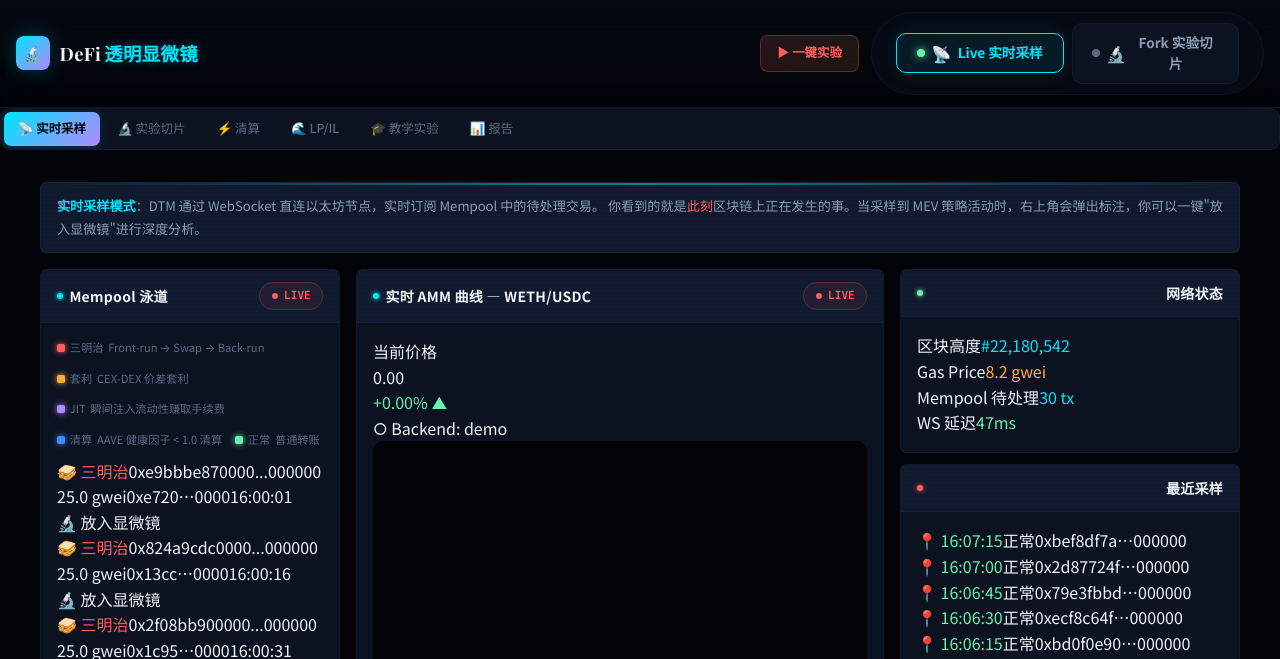
Test case: App › mounts every nav-tab page with page-specific content (full route smoke)
Expected: the header with test id "app-header" is shown, [0,0,1279,108]
Click the tab "📡 实时采样".
click(52, 129)  # box [4,112,100,146]
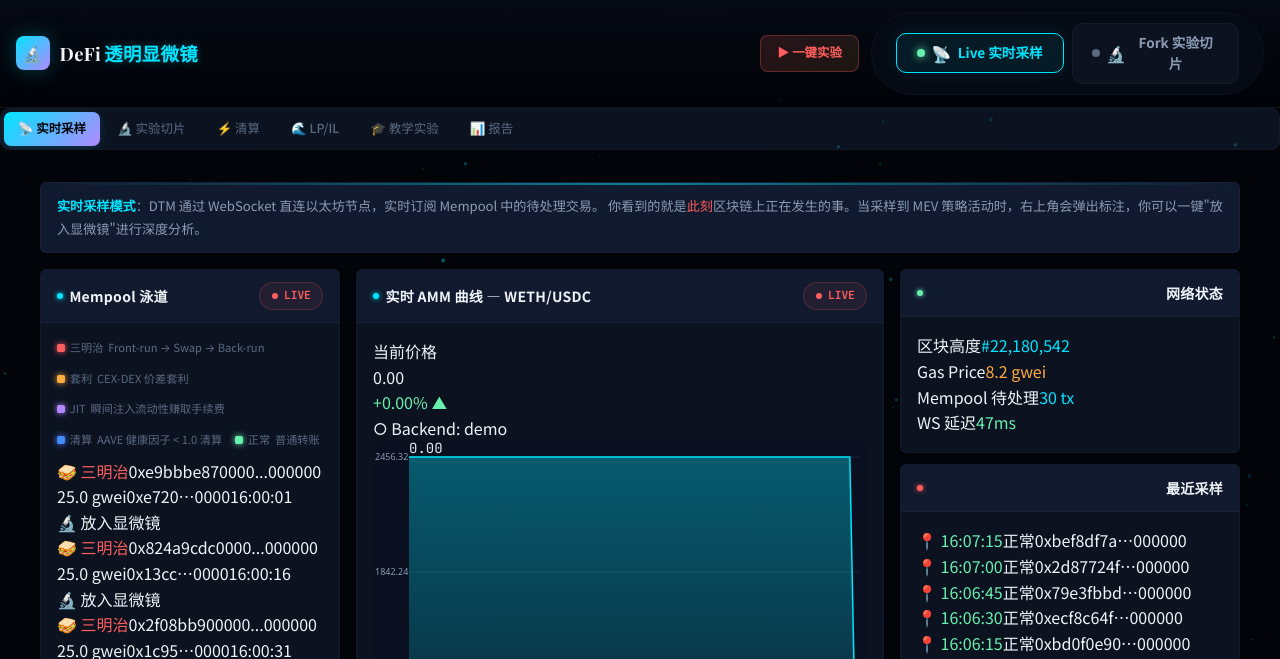
Click the tab "🔬 实验切片".
click(151, 129)  # box [104,112,199,146]
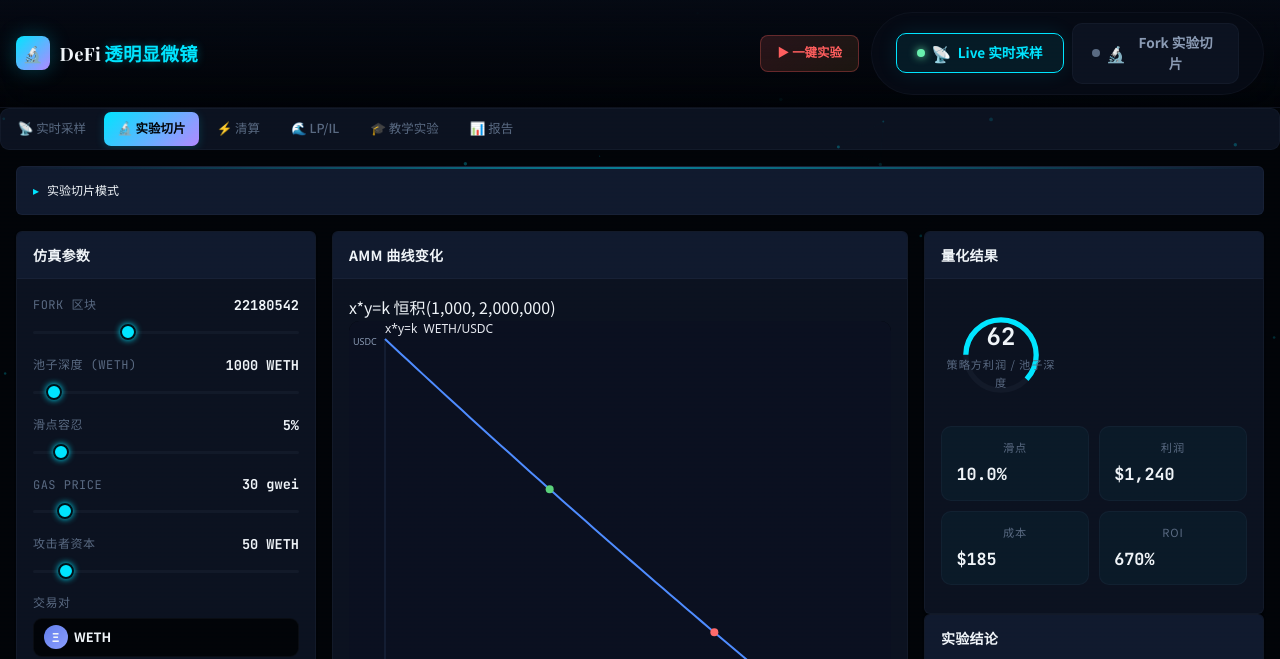
Click the tab "⚡ 清算".
click(238, 129)  # box [203,112,274,146]
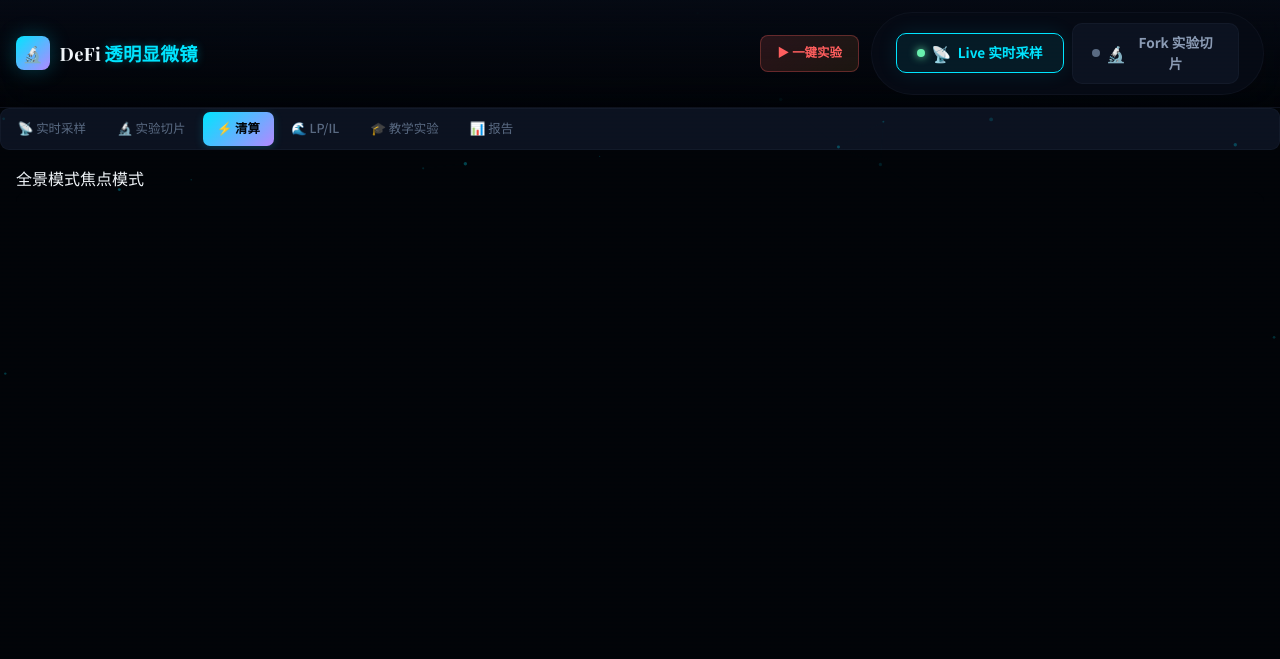
Click the tab "🌊 LP/IL".
click(315, 129)  # box [278,112,353,146]
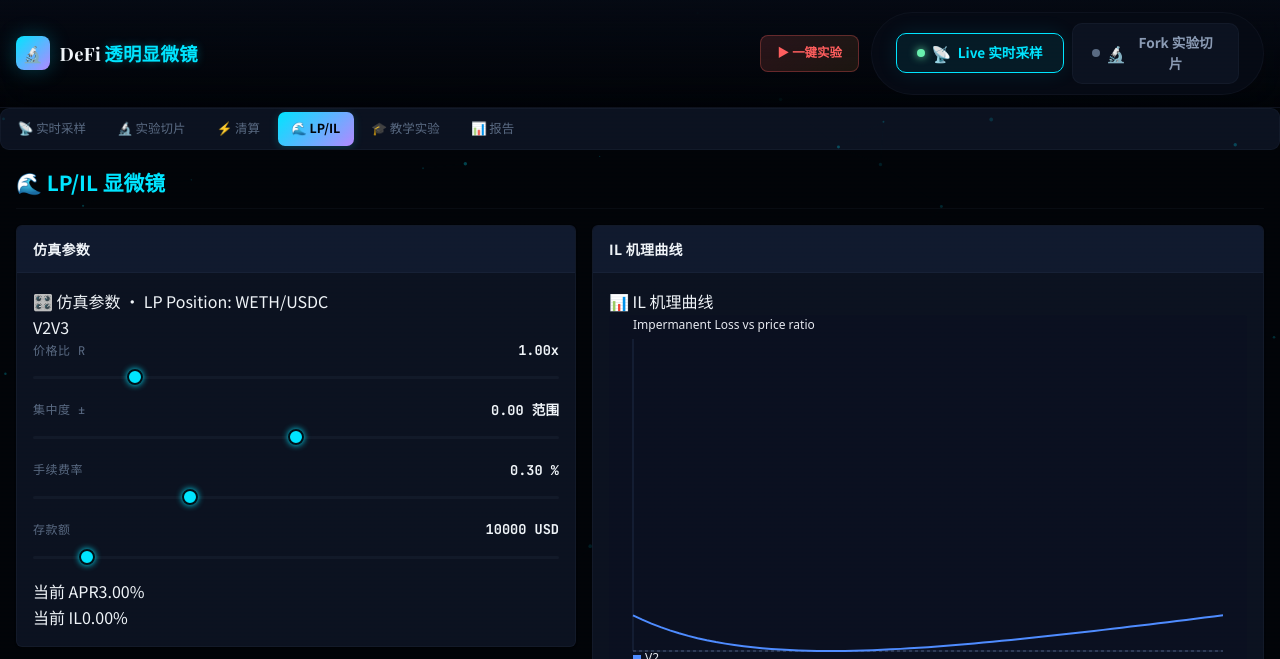
Expected: the element with test id "lpil-params-panel" is shown, [33,289,559,630]
Click the tab "🎓 教学实验".
click(406, 129)  # box [358,112,453,146]
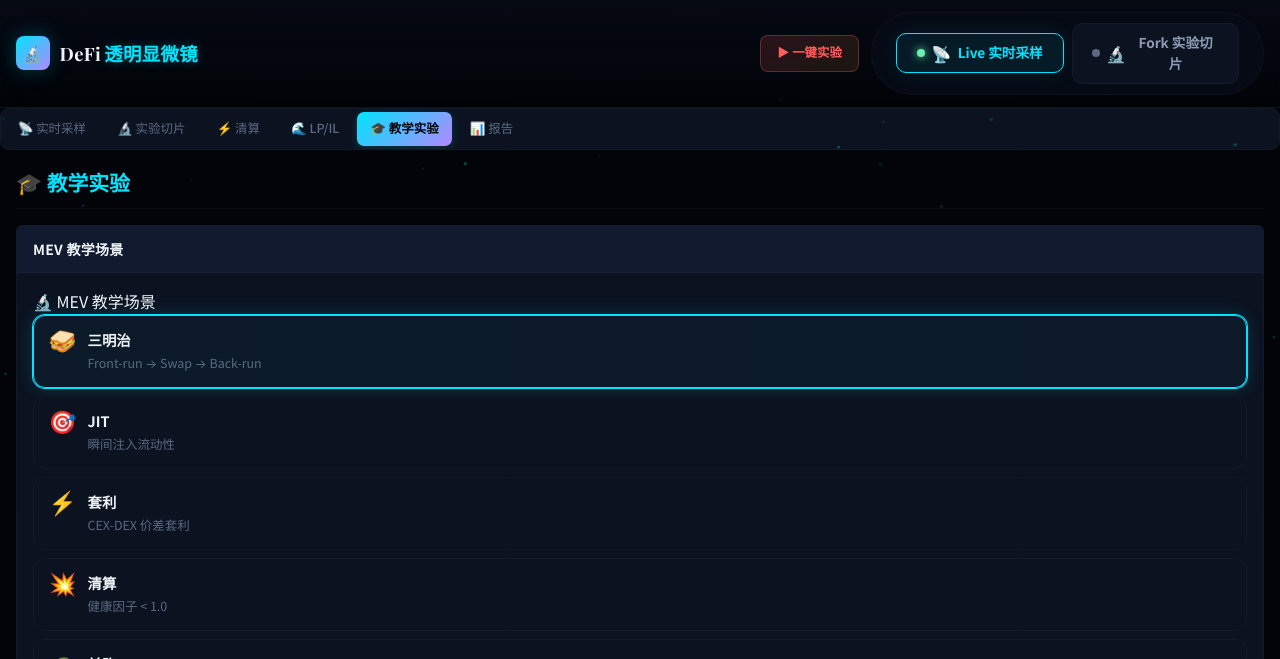
Click the tab "📊 报告".
click(492, 129)  # box [456,112,527,146]
(page scrolled)
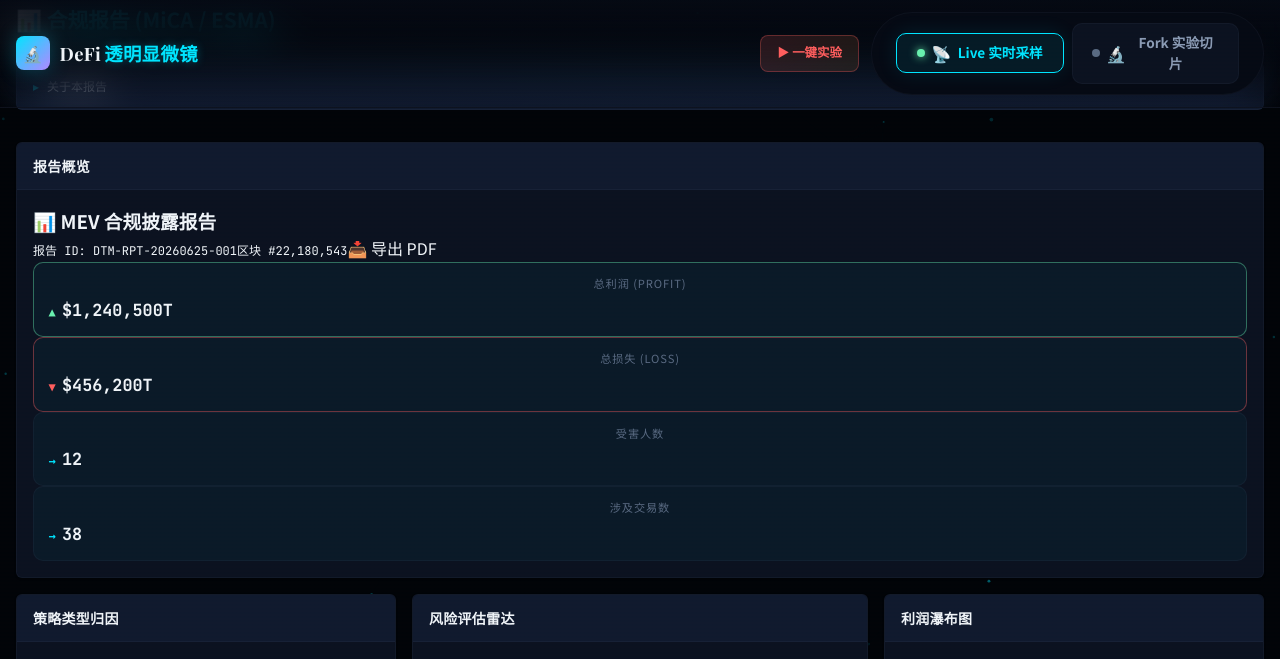
Expected: the element with test id "report-overview-panel" is shown
